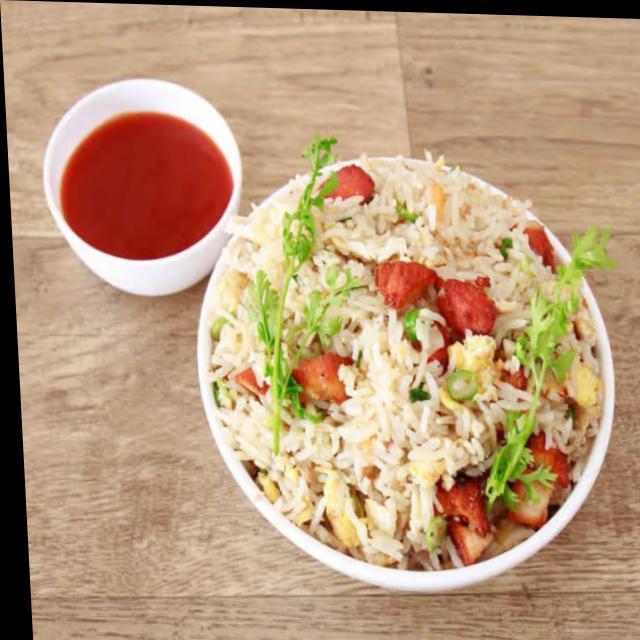SAUCE: (46, 84, 244, 272)
